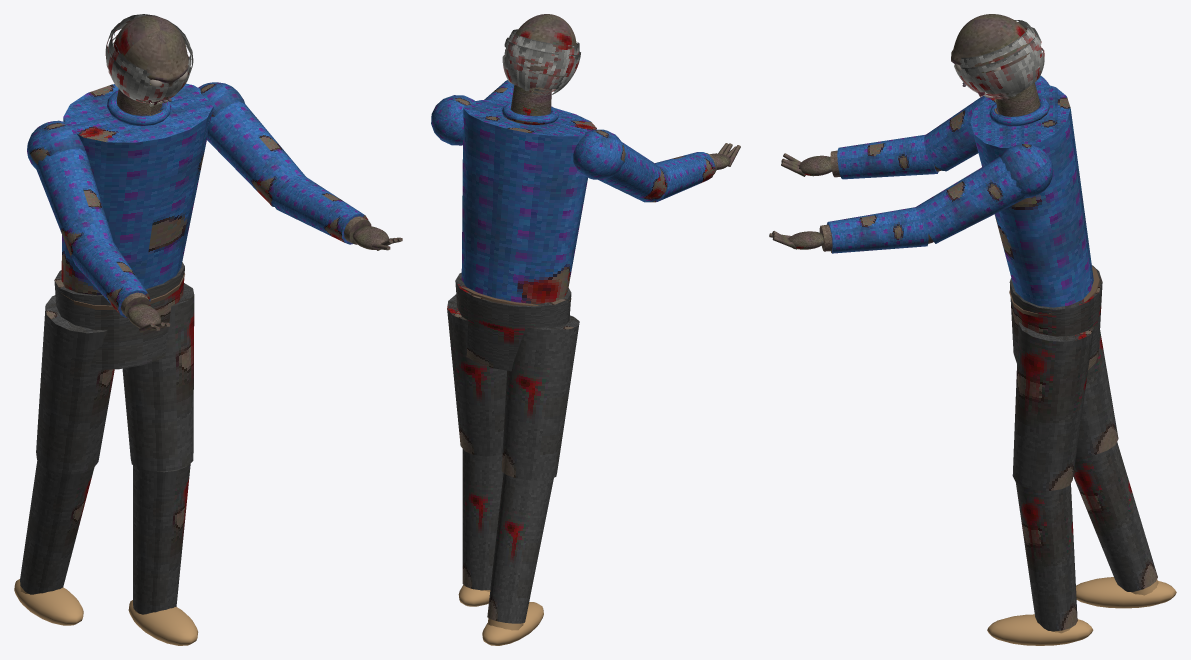
Rendered from Zombie_116.glb.
3 views of the same model, side by side, from view 1: azimuth 30°, elevation 25°; view 2: azimuth 150°, elevation 25°; view 3: azimuth 270°, elevation 25° (orthographic). The views are drawn at different scales.
Visible parts, largest first — view 1: Zombie_116, object 18, object 12, object 4, object 44, object 43, object 5, object 13; view 2: Zombie_116, object 44, object 4, object 18, object 43; view 3: Zombie_116, object 12, object 4, object 18, object 44, object 43.
Part boxes in pixels (<box>): Zombie_116: <box>14,82,305,645</box>; object 18: <box>113,15,188,100</box>; object 12: <box>272,175,368,244</box>; object 4: <box>72,238,150,317</box>; object 44: <box>105,21,193,103</box>; object 43: <box>107,14,191,101</box>; object 5: <box>127,304,161,329</box>; object 13: <box>352,226,388,249</box>; Zombie_116: <box>431,85,668,645</box>; object 44: <box>502,37,580,95</box>; object 4: <box>650,152,715,202</box>; object 18: <box>515,14,576,89</box>; object 43: <box>504,29,579,92</box>; Zombie_116: <box>916,75,1176,645</box>; object 12: <box>827,207,928,253</box>; object 4: <box>837,134,938,179</box>; object 18: <box>951,14,1029,93</box>; object 44: <box>954,27,1044,99</box>; object 43: <box>959,20,1042,96</box>.
Size of the model in its own units: 0.7867 by 1.94 by 1.18.
16 materials, 6 textured.
